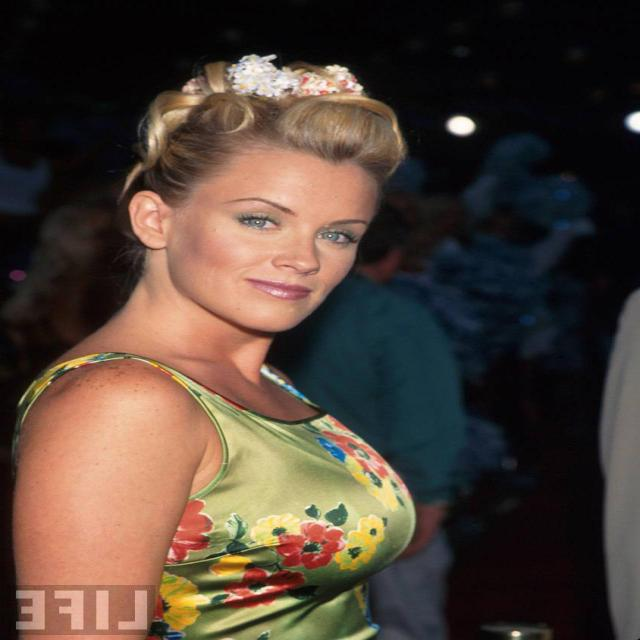no-earmuff: (116, 175, 195, 267)
